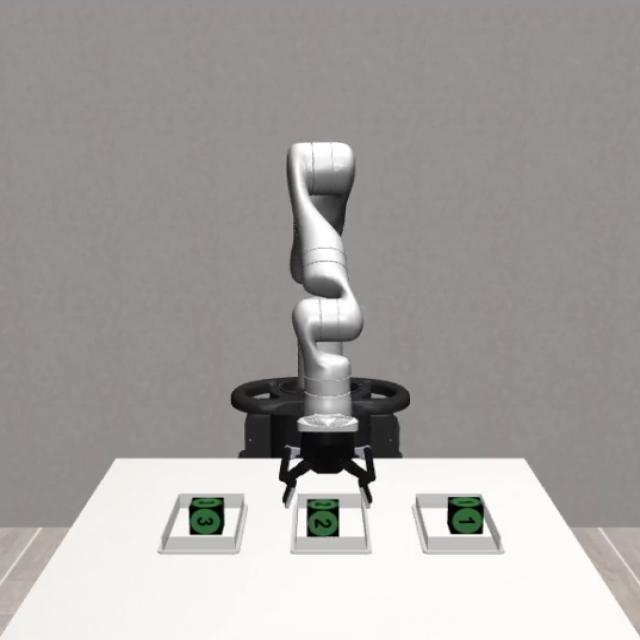cube1: (449, 497, 484, 533)
cube2: (306, 499, 338, 538)
cube3: (188, 494, 226, 535)
